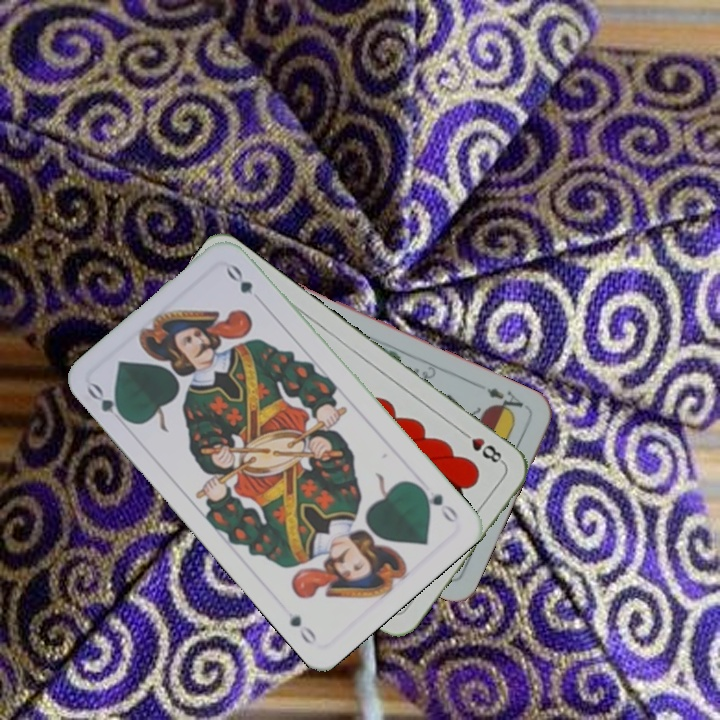EA: (482, 383, 526, 418)
GO: (83, 379, 133, 425), (413, 481, 461, 526)
H8: (456, 426, 507, 467)
